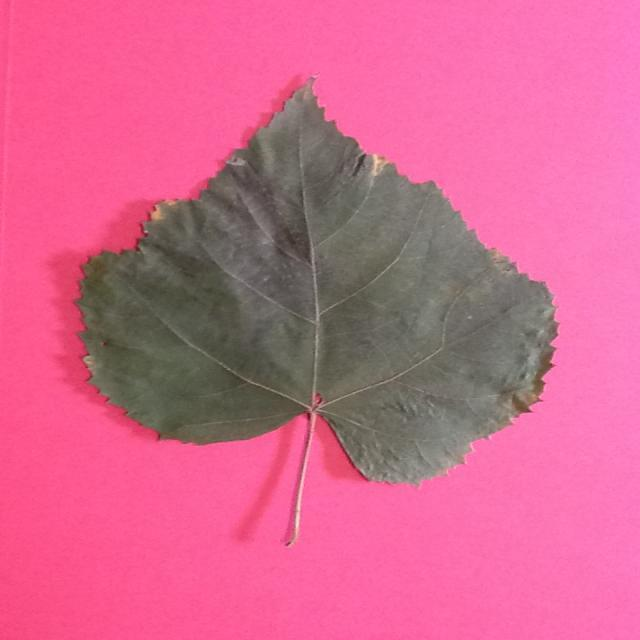foliage: (74, 74, 554, 548)
